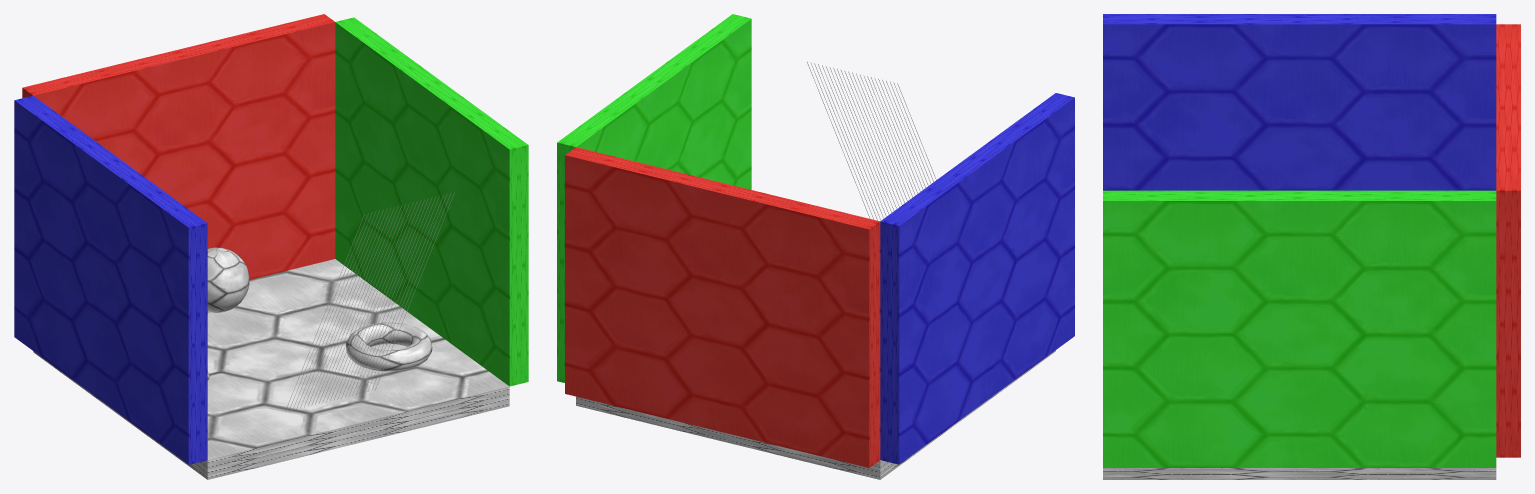
File: Box_Grill.fbx
The picture shows the model from 3 angles, left to right: view 1: azimuth 30°, elevation 25°; view 2: azimuth 150°, elevation 25°; view 3: azimuth 270°, elevation 25°; orthographic projection. The views are drawn at different scales.
Parts seen in each view (by area): view 1: pCube2, pCube5, pCube6, pCube7, pTorus1, pSphere1; view 2: pCube6, pCube2, pCube5, pCube7; view 3: pCube5, pCube2, pCube6, pCube7.
Boxes of the visible parts, bbox=[...] form: pCube2: bbox=[14, 95, 207, 464]; pCube5: bbox=[335, 17, 528, 386]; pCube6: bbox=[22, 14, 335, 279]; pCube7: bbox=[33, 259, 509, 479]; pTorus1: bbox=[346, 322, 432, 371]; pSphere1: bbox=[207, 247, 249, 312]; pCube6: bbox=[565, 147, 880, 467]; pCube2: bbox=[880, 93, 1074, 464]; pCube5: bbox=[557, 14, 751, 382]; pCube7: bbox=[576, 350, 1055, 479]; pCube5: bbox=[1103, 190, 1496, 467]; pCube2: bbox=[1103, 14, 1496, 190]; pCube6: bbox=[1496, 24, 1520, 457]; pCube7: bbox=[1103, 468, 1496, 479].
Bounding box in the file's own units: 9 × 6.5 × 8.5.
Materials: 5 (4 with a texture image).
